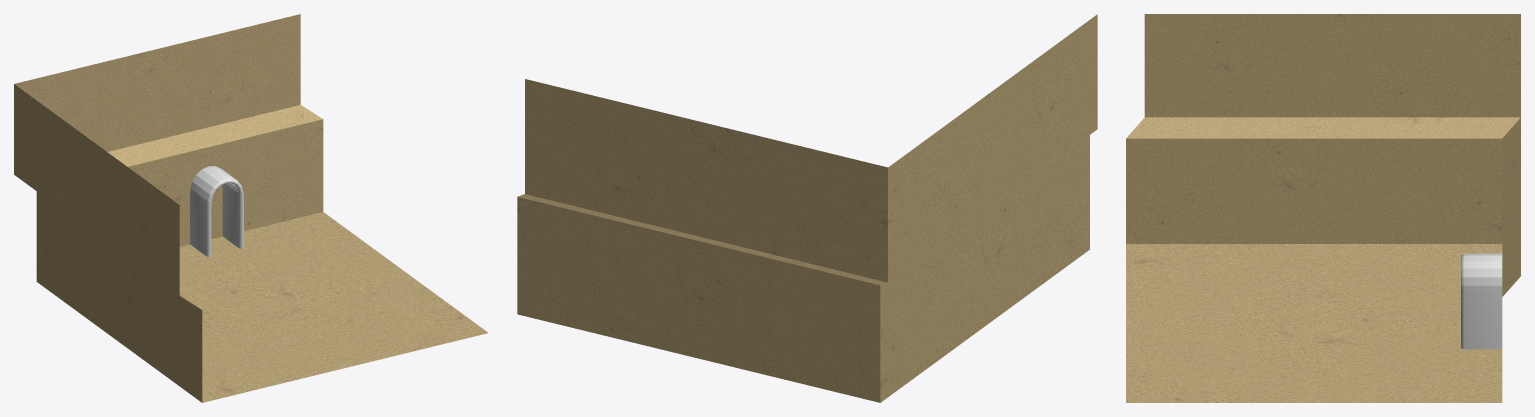
File: main-menu-scene.glb
The picture shows the model from 3 angles, left to right: view 1: azimuth 30°, elevation 25°; view 2: azimuth 150°, elevation 25°; view 3: azimuth 270°, elevation 25°; orthographic projection. The views are drawn at different scales.
Parts seen in each view (by area): view 1: ground, Cube; view 2: ground; view 3: ground, Cube.
Part boxes in pixels (left/top/right/bottom): ground: left=14, top=14, right=488, bottom=402; Cube: left=190, top=166, right=243, bottom=257; ground: left=517, top=14, right=1097, bottom=402; ground: left=1126, top=14, right=1520, bottom=402; Cube: left=1461, top=253, right=1502, bottom=349.
Bounding box in the file's own units: 10.5 × 6.51 × 10.5.
Materials: 1 (1 with a texture image).
